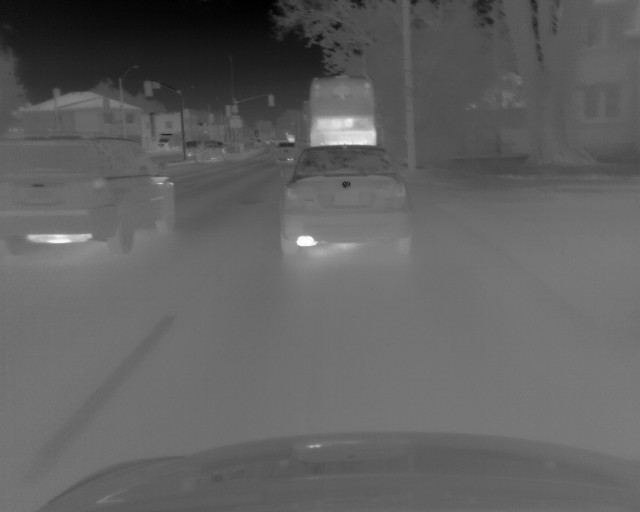car: (1, 134, 178, 253), (278, 144, 415, 263), (308, 76, 376, 144), (201, 139, 224, 162), (185, 139, 199, 159), (155, 137, 170, 150)
